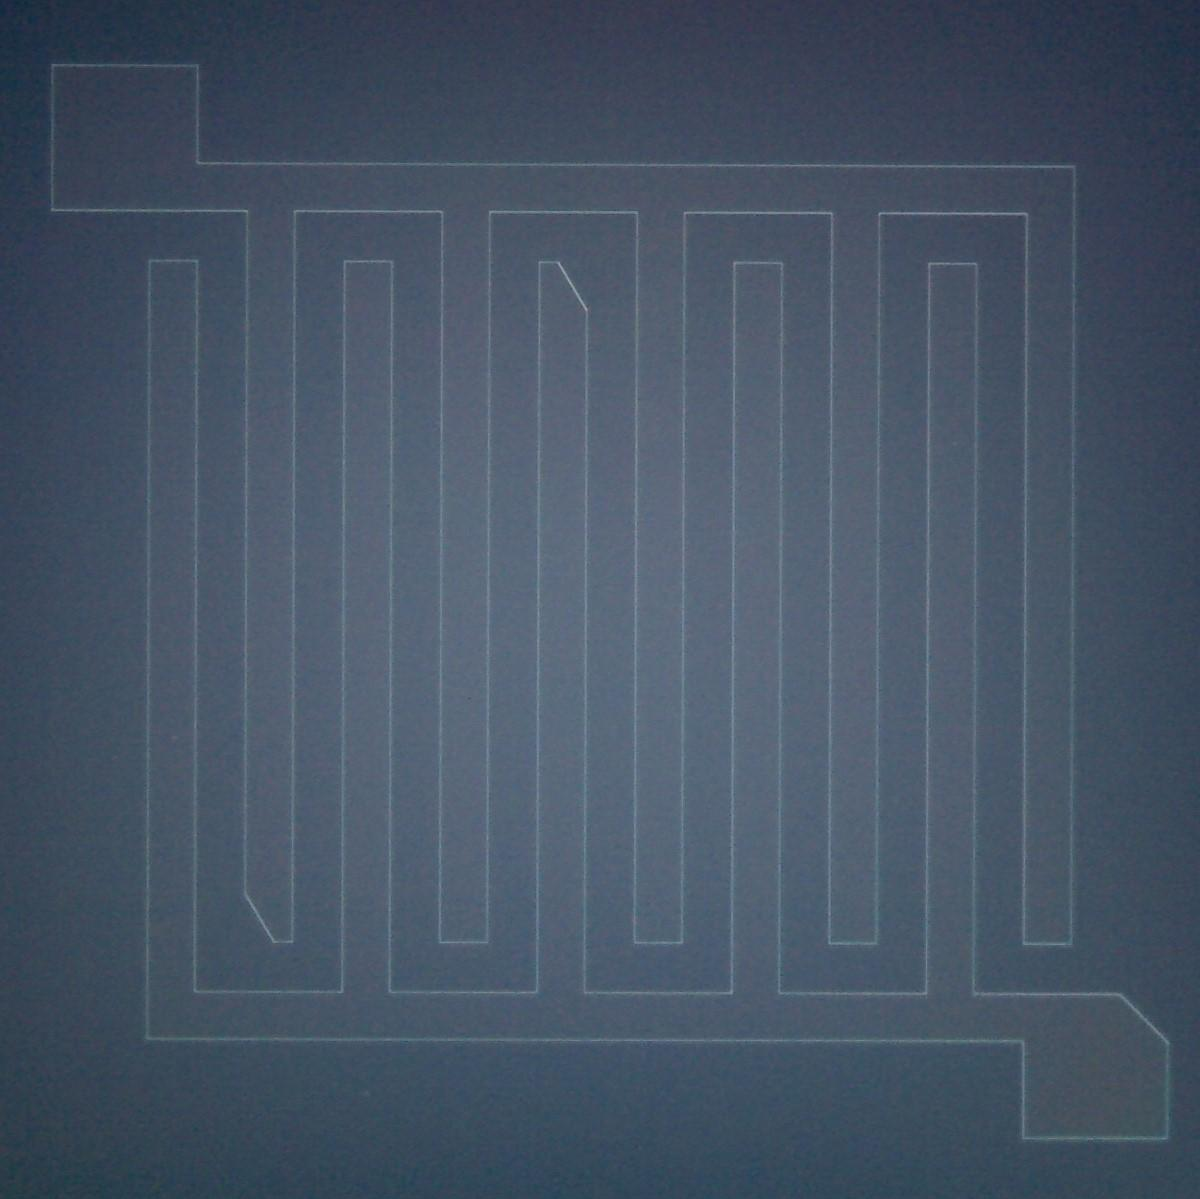cut: (526, 244, 598, 330), (1100, 978, 1181, 1053), (231, 876, 304, 959)
